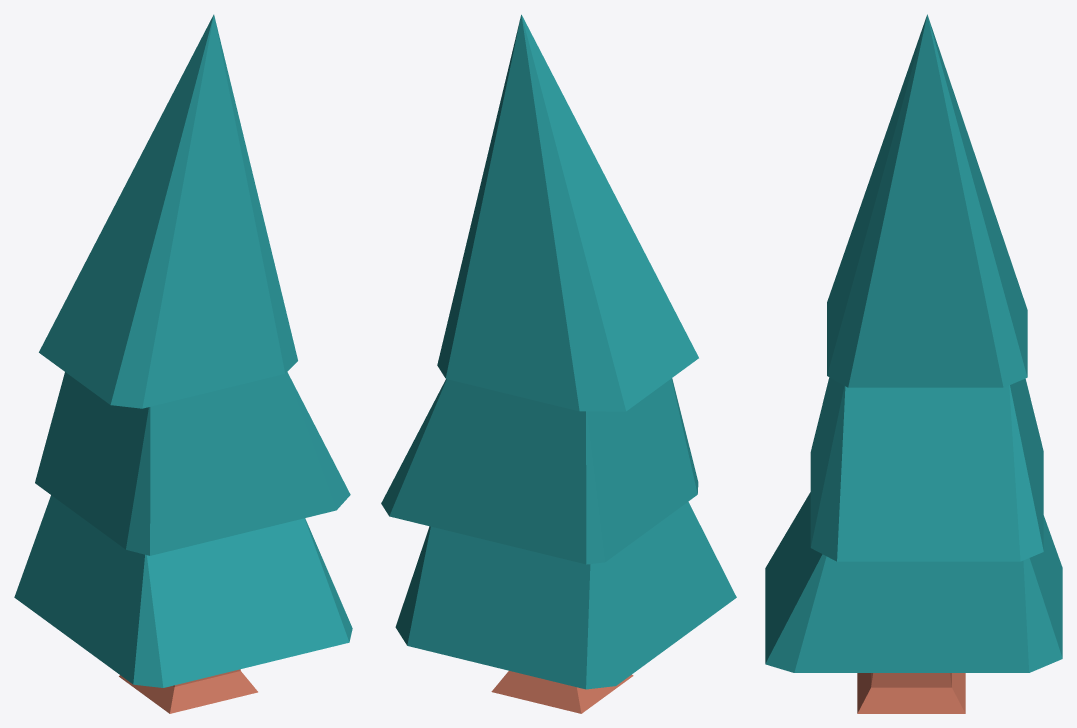
File: tree-pine-small-b.glb
3 renders of one model, left to right at view 1: azimuth 30°, elevation 25°; view 2: azimuth 150°, elevation 25°; view 3: azimuth 270°, elevation 25°, orthographic. The views are drawn at different scales.
Visible parts, largest first — view 1: tree_pineSmallB; view 2: tree_pineSmallB; view 3: tree_pineSmallB.
Boxes of the visible parts, box(x1,y1,x2,y2) form: tree_pineSmallB: box(14, 14, 352, 713); tree_pineSmallB: box(381, 14, 736, 713); tree_pineSmallB: box(765, 14, 1062, 713).
Bounding box in the file's own units: 0.3863 × 1.01 × 0.392.
